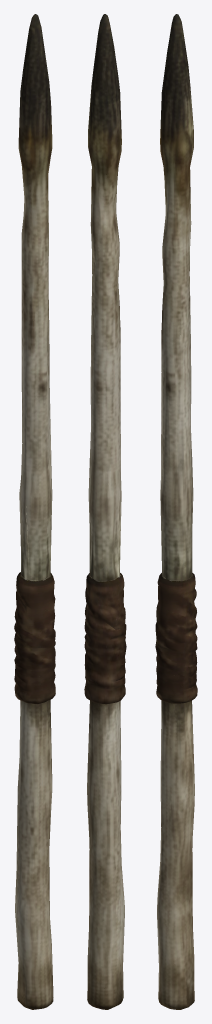
3 views of the same model, side by side, from view 1: azimuth 30°, elevation 25°; view 2: azimuth 150°, elevation 25°; view 3: azimuth 330°, elevation 25° (orthographic).
Visible parts, largest first — view 1: wooden-spear; view 2: wooden-spear; view 3: wooden-spear.
Part boxes in pixels (<box>): wooden-spear: <box>14,14,55,1009</box>; wooden-spear: <box>84,14,126,1009</box>; wooden-spear: <box>155,14,197,1009</box>.
Size of the model in its own units: 0.0624 by 1.61 by 0.0585.
Materials: 1 (1 with a texture image).
